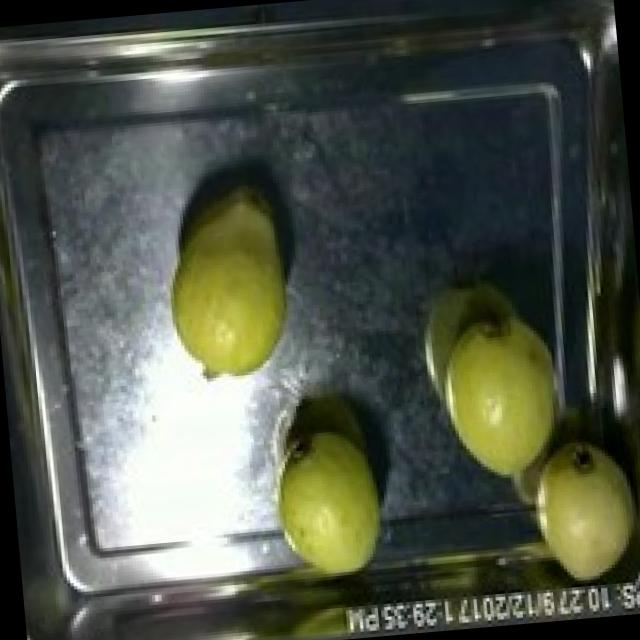Fruit: (150, 172, 310, 394), (419, 299, 578, 493), (506, 422, 640, 610), (254, 412, 392, 594)
